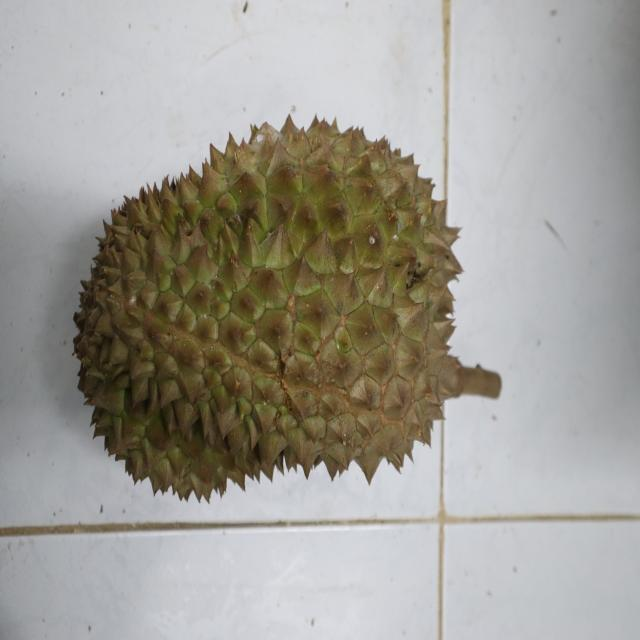mature: (71, 110, 466, 505)
